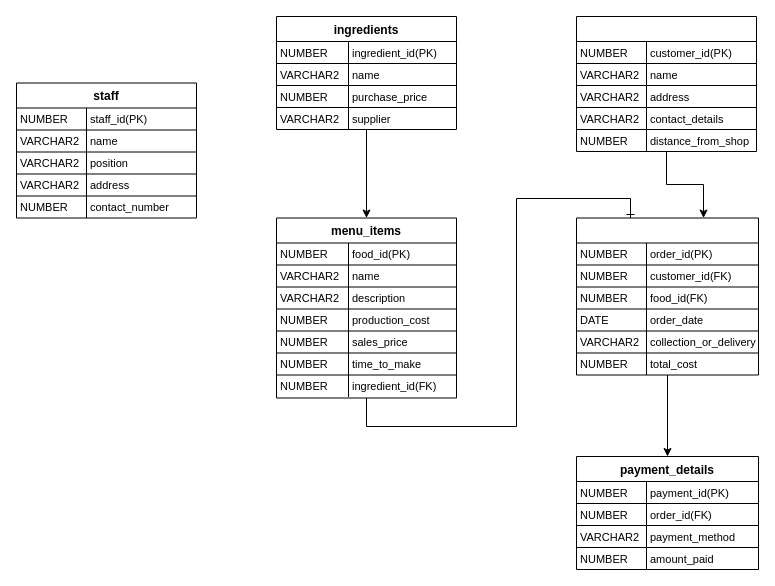
The diagram is 775 pixels wide and 586 high, and some of its shapes have lost their labels. The shapes that lost their labels are listed below. From the top down, each one's box as (x1, y1, x2, y2) in pixels, then its label:
(576, 16, 756, 152): customers
(576, 217, 758, 375): orders
